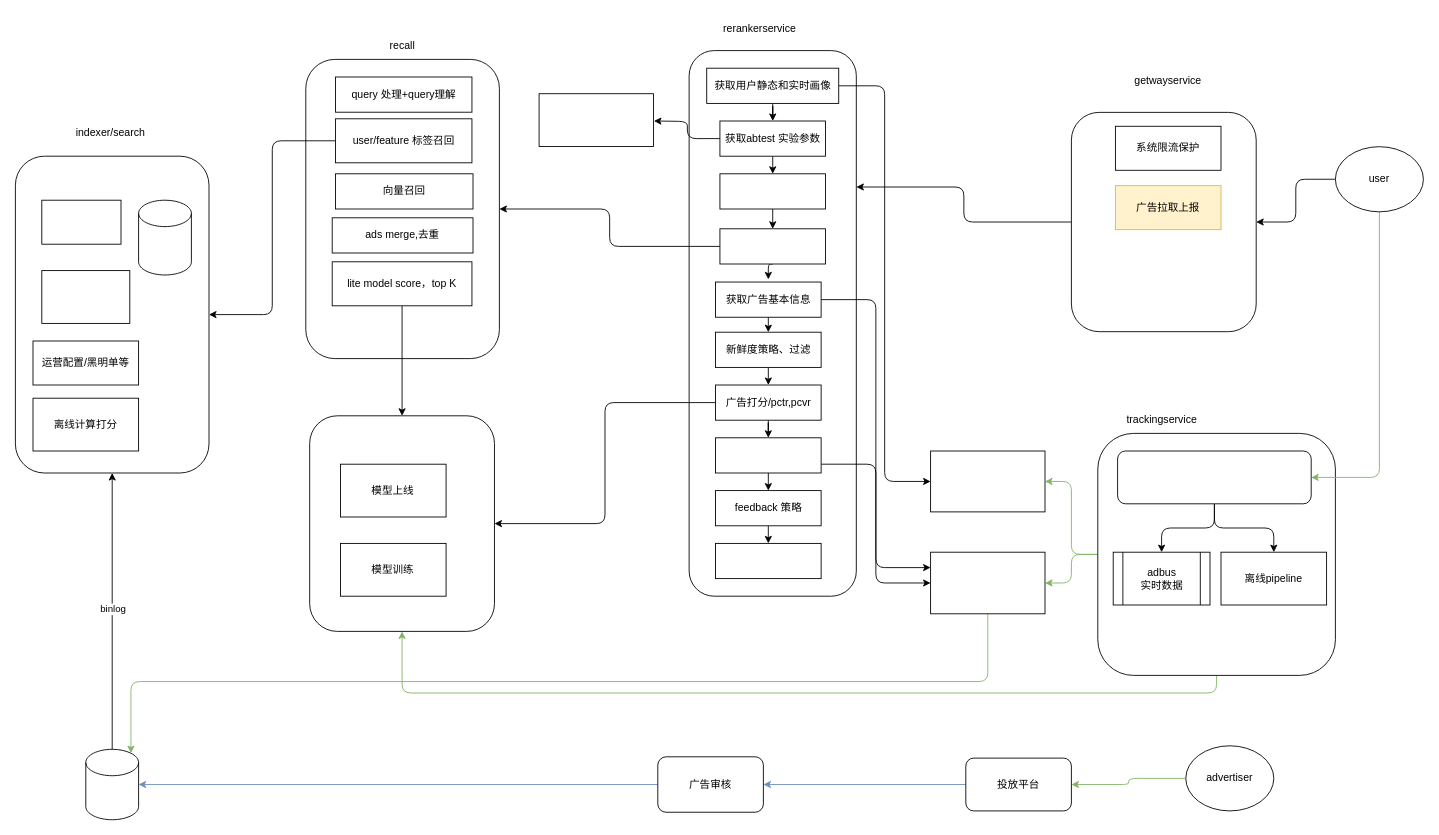
Image size: 1439x835. Some labels were removed from this diagram. Each missing label, with the centre of its shape:
"adinfo、adprofile" belongs at point 987,582.
"fully build" belongs at point 81,221.
"incremental build" belongs at point 85,296.
"index" belongs at point 164,237.
"log indegest" belongs at point 1214,477.
"oCPX 策略，计算ecpm" belongs at point 768,561.
"userinfo、userprofile" belongs at point 987,481.
"实验平台" belongs at point 595,120.
"广告池" belongs at point 112,784.
"用户频控策略过滤" belongs at point 772,191.
"获取广告adprofile，pctr,pcvr" belongs at point 768,455.
"获取广告列表" belongs at point 772,246.
